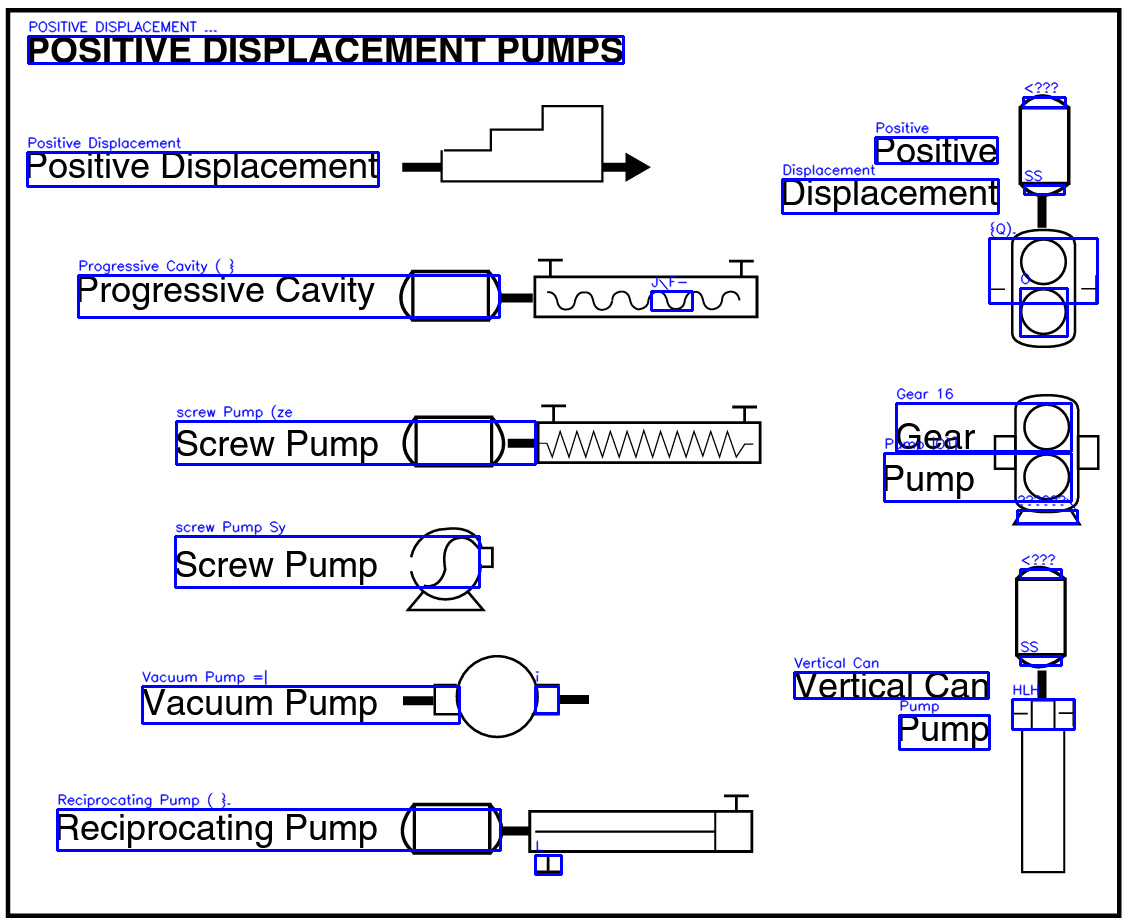Bomba: (393, 787, 760, 879), (399, 391, 778, 475), (983, 91, 1101, 355), (390, 252, 774, 331), (386, 94, 654, 189), (1005, 564, 1084, 881), (395, 651, 598, 743), (990, 390, 1103, 534), (400, 521, 499, 618)
